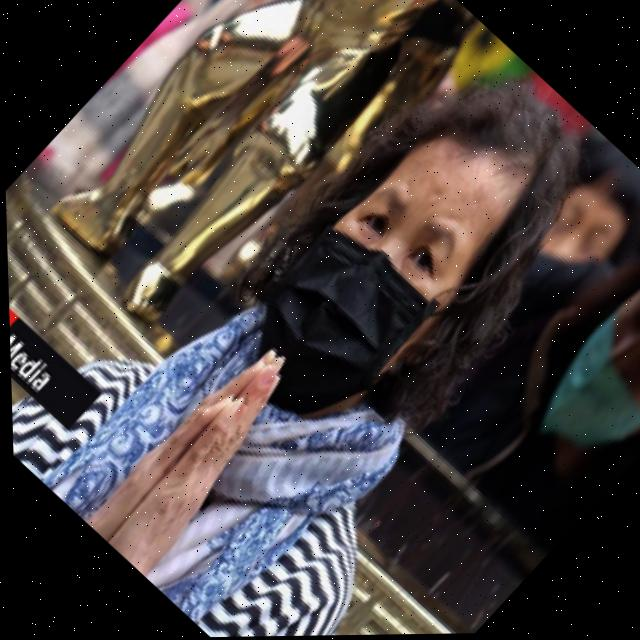Mask: (229, 194, 470, 432), (514, 300, 640, 496)
